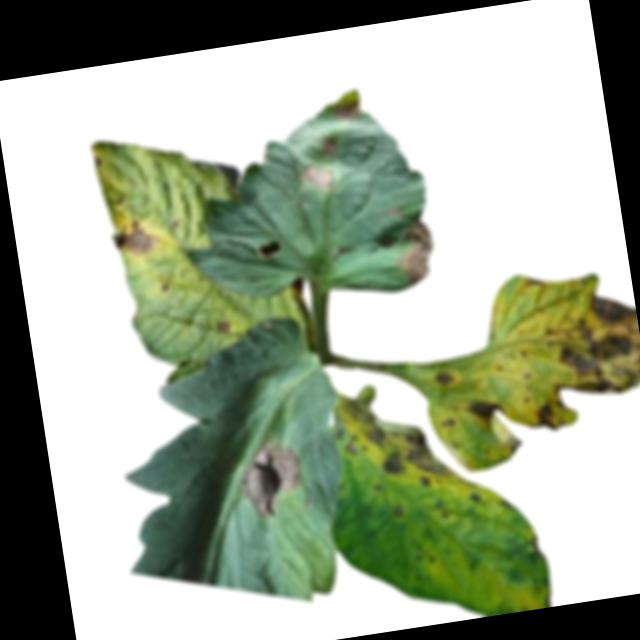Early_blight: (331, 382, 452, 499), (541, 288, 640, 405), (234, 436, 314, 522), (392, 214, 439, 290), (110, 217, 161, 259), (529, 397, 567, 435), (464, 391, 507, 424), (303, 160, 336, 193), (334, 99, 363, 124), (501, 431, 527, 458), (433, 366, 459, 390), (318, 133, 343, 156), (438, 411, 460, 434), (522, 273, 546, 290), (215, 318, 235, 335), (393, 504, 409, 521)
